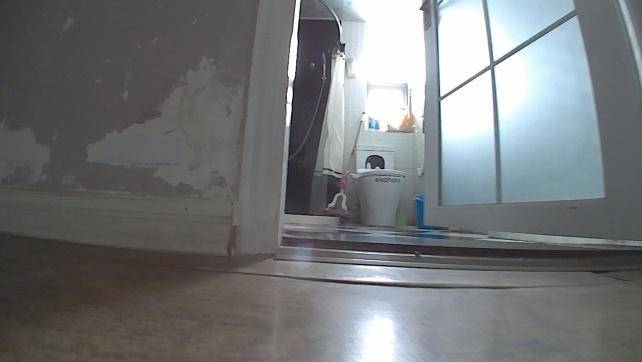door_anno: (415, 0, 641, 242)
toilet: (352, 163, 406, 228)
